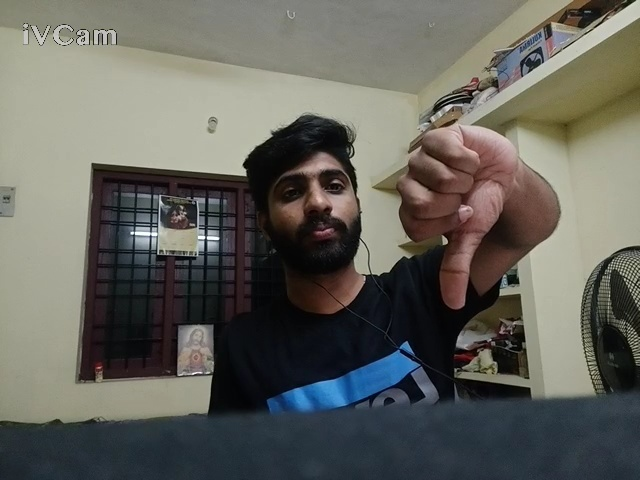No: (379, 115, 600, 336)
